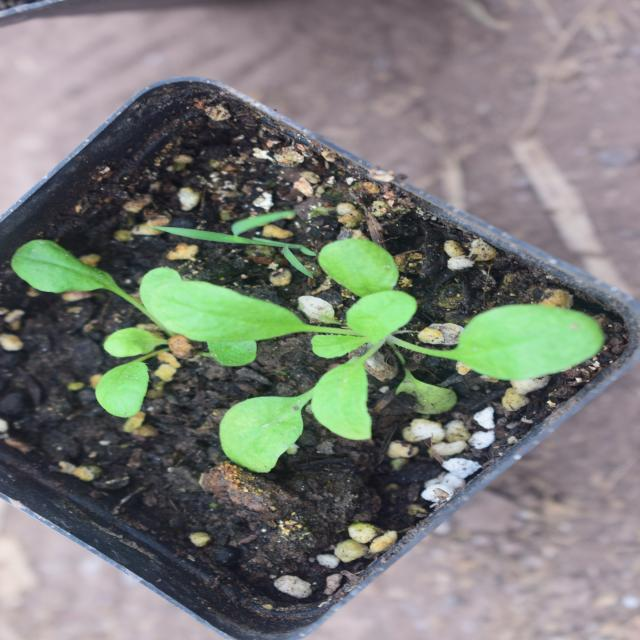Shepherd_Purse: (172, 129, 385, 575)
